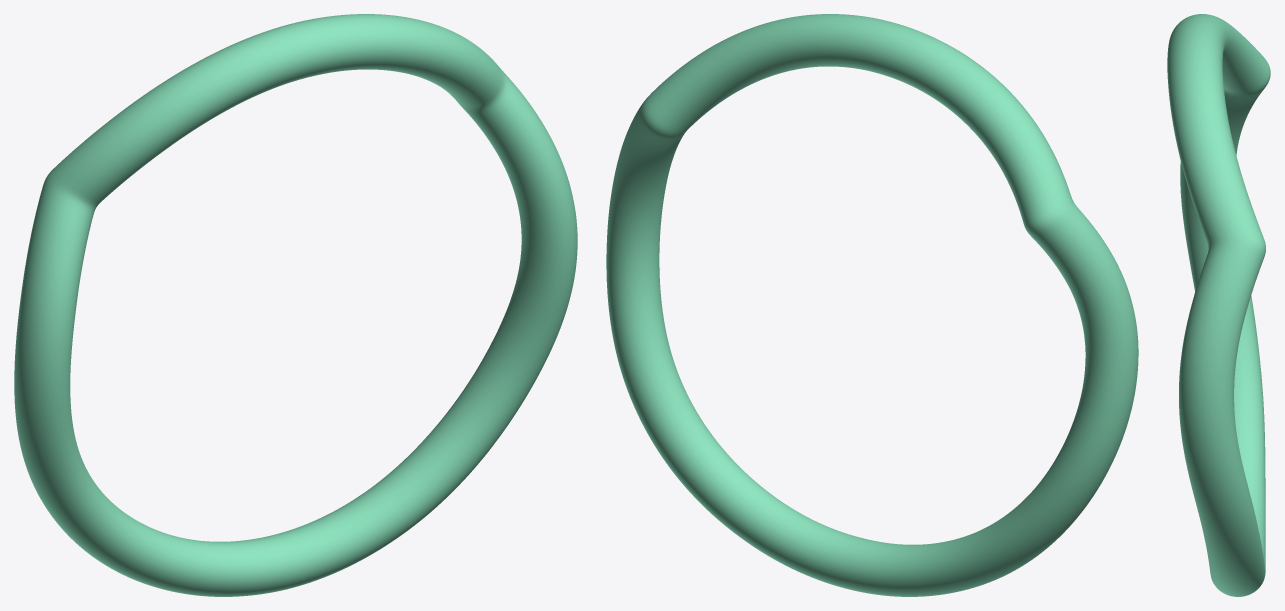
The picture shows the model from 3 angles, left to right: view 1: azimuth 30°, elevation 25°; view 2: azimuth 150°, elevation 25°; view 3: azimuth 270°, elevation 25°; orthographic projection. The views are drawn at different scales.
Parts seen in each view (by area): view 1: Metal03; view 2: Metal03; view 3: Metal03.
Boxes of the visible parts, x1=… form: Metal03: x1=14, y1=14, x2=577, y2=596; Metal03: x1=606, y1=14, x2=1138, y2=596; Metal03: x1=1167, y1=14, x2=1270, y2=596.
Bounding box in the file's own units: 20.88 × 20.88 × 3.7.
